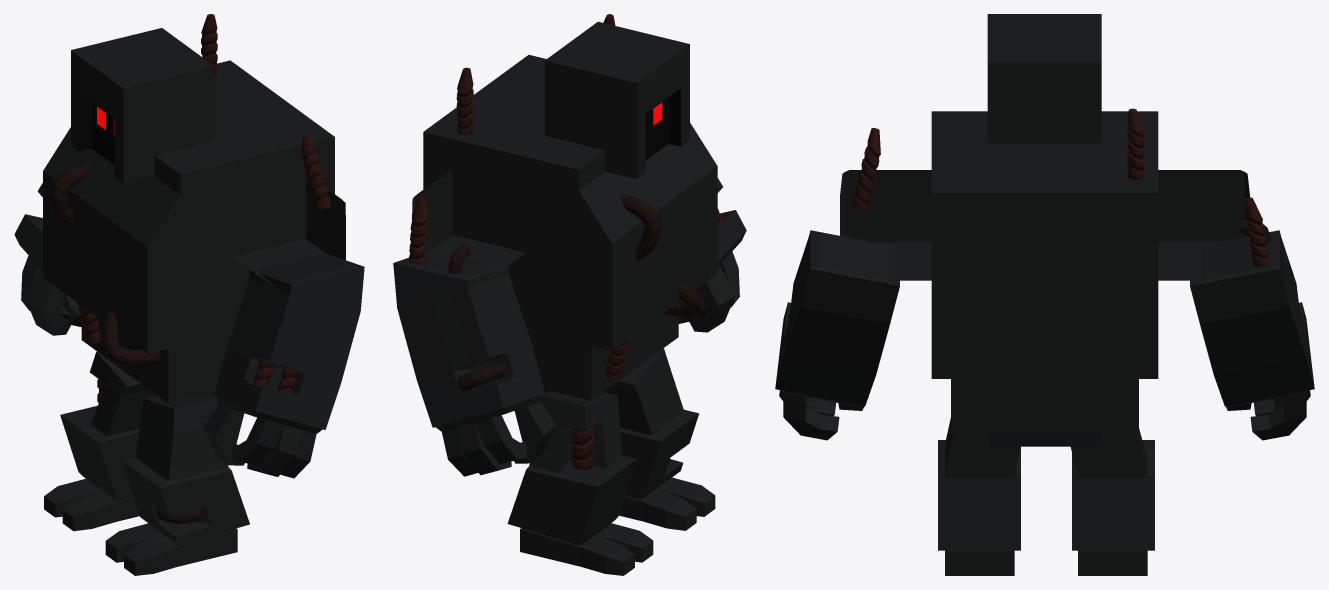
File: GolemEnemy.fbx
3 views of the same model, side by side, from view 1: azimuth 30°, elevation 25°; view 2: azimuth 150°, elevation 25°; view 3: azimuth 270°, elevation 25° (orthographic). The views are drawn at different scales.
Visible parts, largest first — view 1: 1body.001; view 2: 1body.001; view 3: 1body.001.
Part boxes in pixels (bbox=[...]): 1body.001: bbox=[14, 14, 364, 575]; 1body.001: bbox=[393, 14, 746, 575]; 1body.001: bbox=[775, 14, 1314, 575].
Size of the model in its own units: 133 by 289 by 276.
